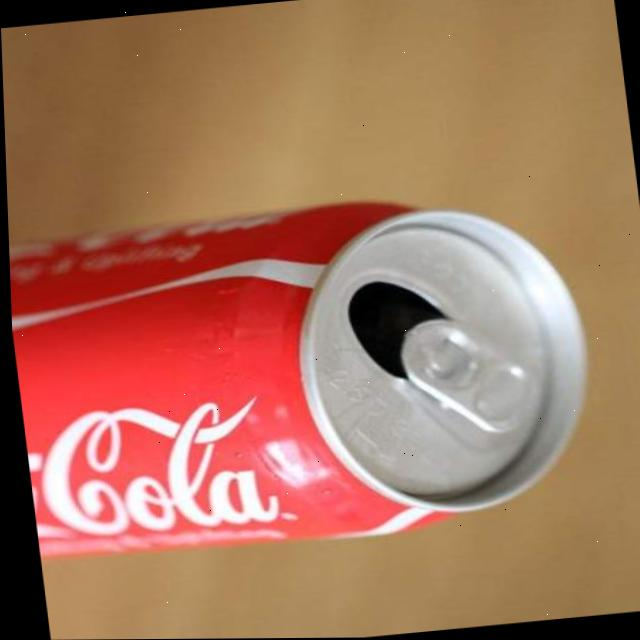Dry: (5, 175, 612, 567)
